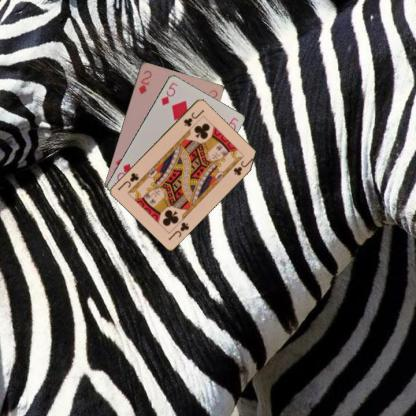2d: (136, 68, 152, 95)
5d: (158, 79, 179, 106)
Jc: (165, 219, 190, 241), (181, 107, 206, 128)
